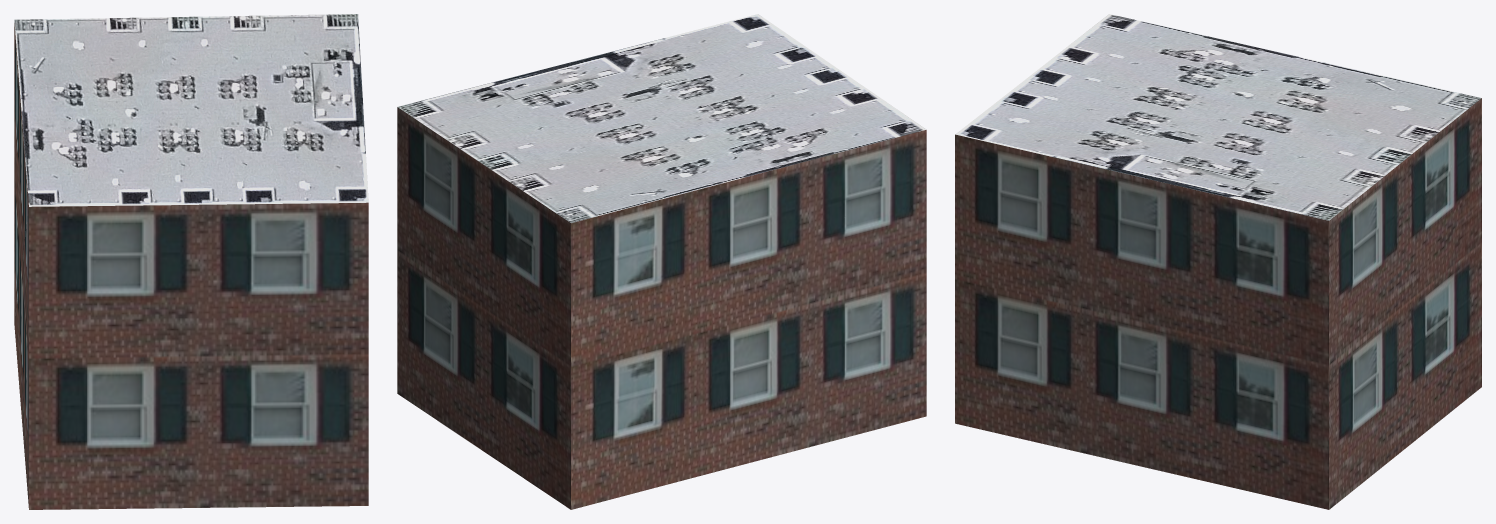
Rendered from ResTex__1126.fbx.
3 views of the same model, side by side, from view 1: azimuth 30°, elevation 25°; view 2: azimuth 150°, elevation 25°; view 3: azimuth 270°, elevation 25° (orthographic). The views are drawn at different scales.
Visible parts, largest first — view 1: CityEngineMaterial_14_m, CityEngineMaterial_8_m; view 2: CityEngineMaterial_14_m, CityEngineMaterial_8_m; view 3: CityEngineMaterial_14_m, CityEngineMaterial_8_m.
Boxes of the visible parts, left/top/right/bottom form: CityEngineMaterial_14_m: left=14, top=23, right=368, bottom=509; CityEngineMaterial_8_m: left=14, top=14, right=368, bottom=206; CityEngineMaterial_14_m: left=397, top=107, right=926, bottom=509; CityEngineMaterial_8_m: left=398, top=14, right=926, bottom=222; CityEngineMaterial_14_m: left=955, top=98, right=1481, bottom=509; CityEngineMaterial_8_m: left=955, top=14, right=1481, bottom=220.
Bounding box in the file's own units: 9.21 × 6 × 9.91.
2 materials, 2 textured.
